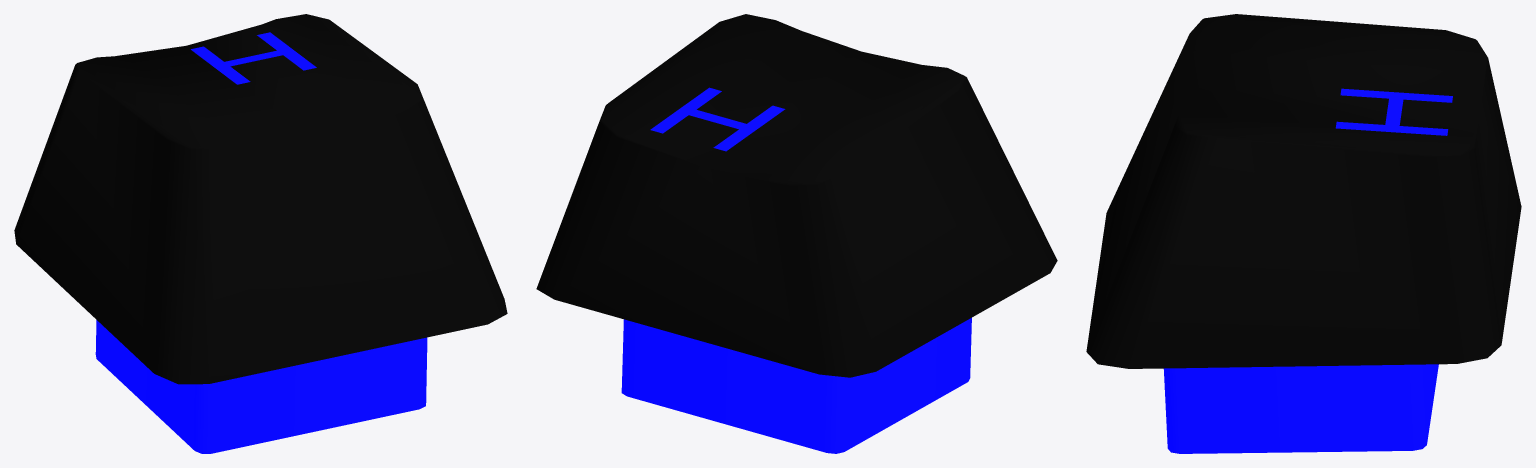
Rendered from h-CaWrhuNC.glb.
The picture shows the model from 3 angles, left to right: view 1: azimuth 30°, elevation 25°; view 2: azimuth 150°, elevation 25°; view 3: azimuth 270°, elevation 25°; orthographic projection. The views are drawn at different scales.
Parts seen in each view (by area): view 1: StudyShelf_1126; view 2: StudyShelf_1126; view 3: StudyShelf_1126.
Boxes of the visible parts, left/top/right/bottom form: StudyShelf_1126: left=14, top=14, right=507, bottom=453; StudyShelf_1126: left=536, top=14, right=1057, bottom=453; StudyShelf_1126: left=1086, top=14, right=1521, bottom=453.
Size of the model in its own units: 4.35 by 3.55 by 4.35.
